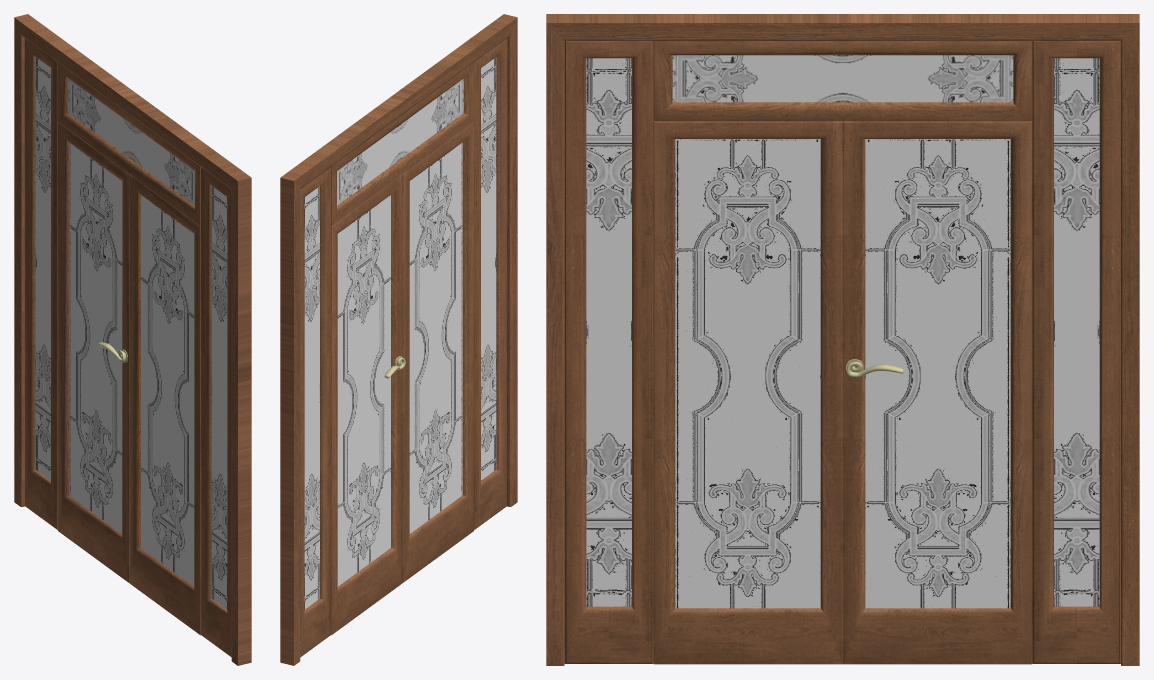
The model's file is Puerta.fbx.
3 renders of one model, left to right at view 1: azimuth 30°, elevation 25°; view 2: azimuth 150°, elevation 25°; view 3: azimuth 270°, elevation 25°, orthographic. The views are drawn at different scales.
Visible parts, largest first — view 1: Plane, Cube; view 2: Plane, Cube; view 3: Plane, Cube.
Boxes of the visible parts, x1,y1,x2,y2 form: Plane: [24, 38, 231, 657]; Cube: [14, 14, 251, 665]; Plane: [300, 38, 507, 657]; Cube: [280, 14, 517, 665]; Plane: [564, 41, 1120, 664]; Cube: [546, 14, 1139, 665].
Bounding box in the file's own units: 3164 × 53560 × 44792.
3 materials, 2 textured.
